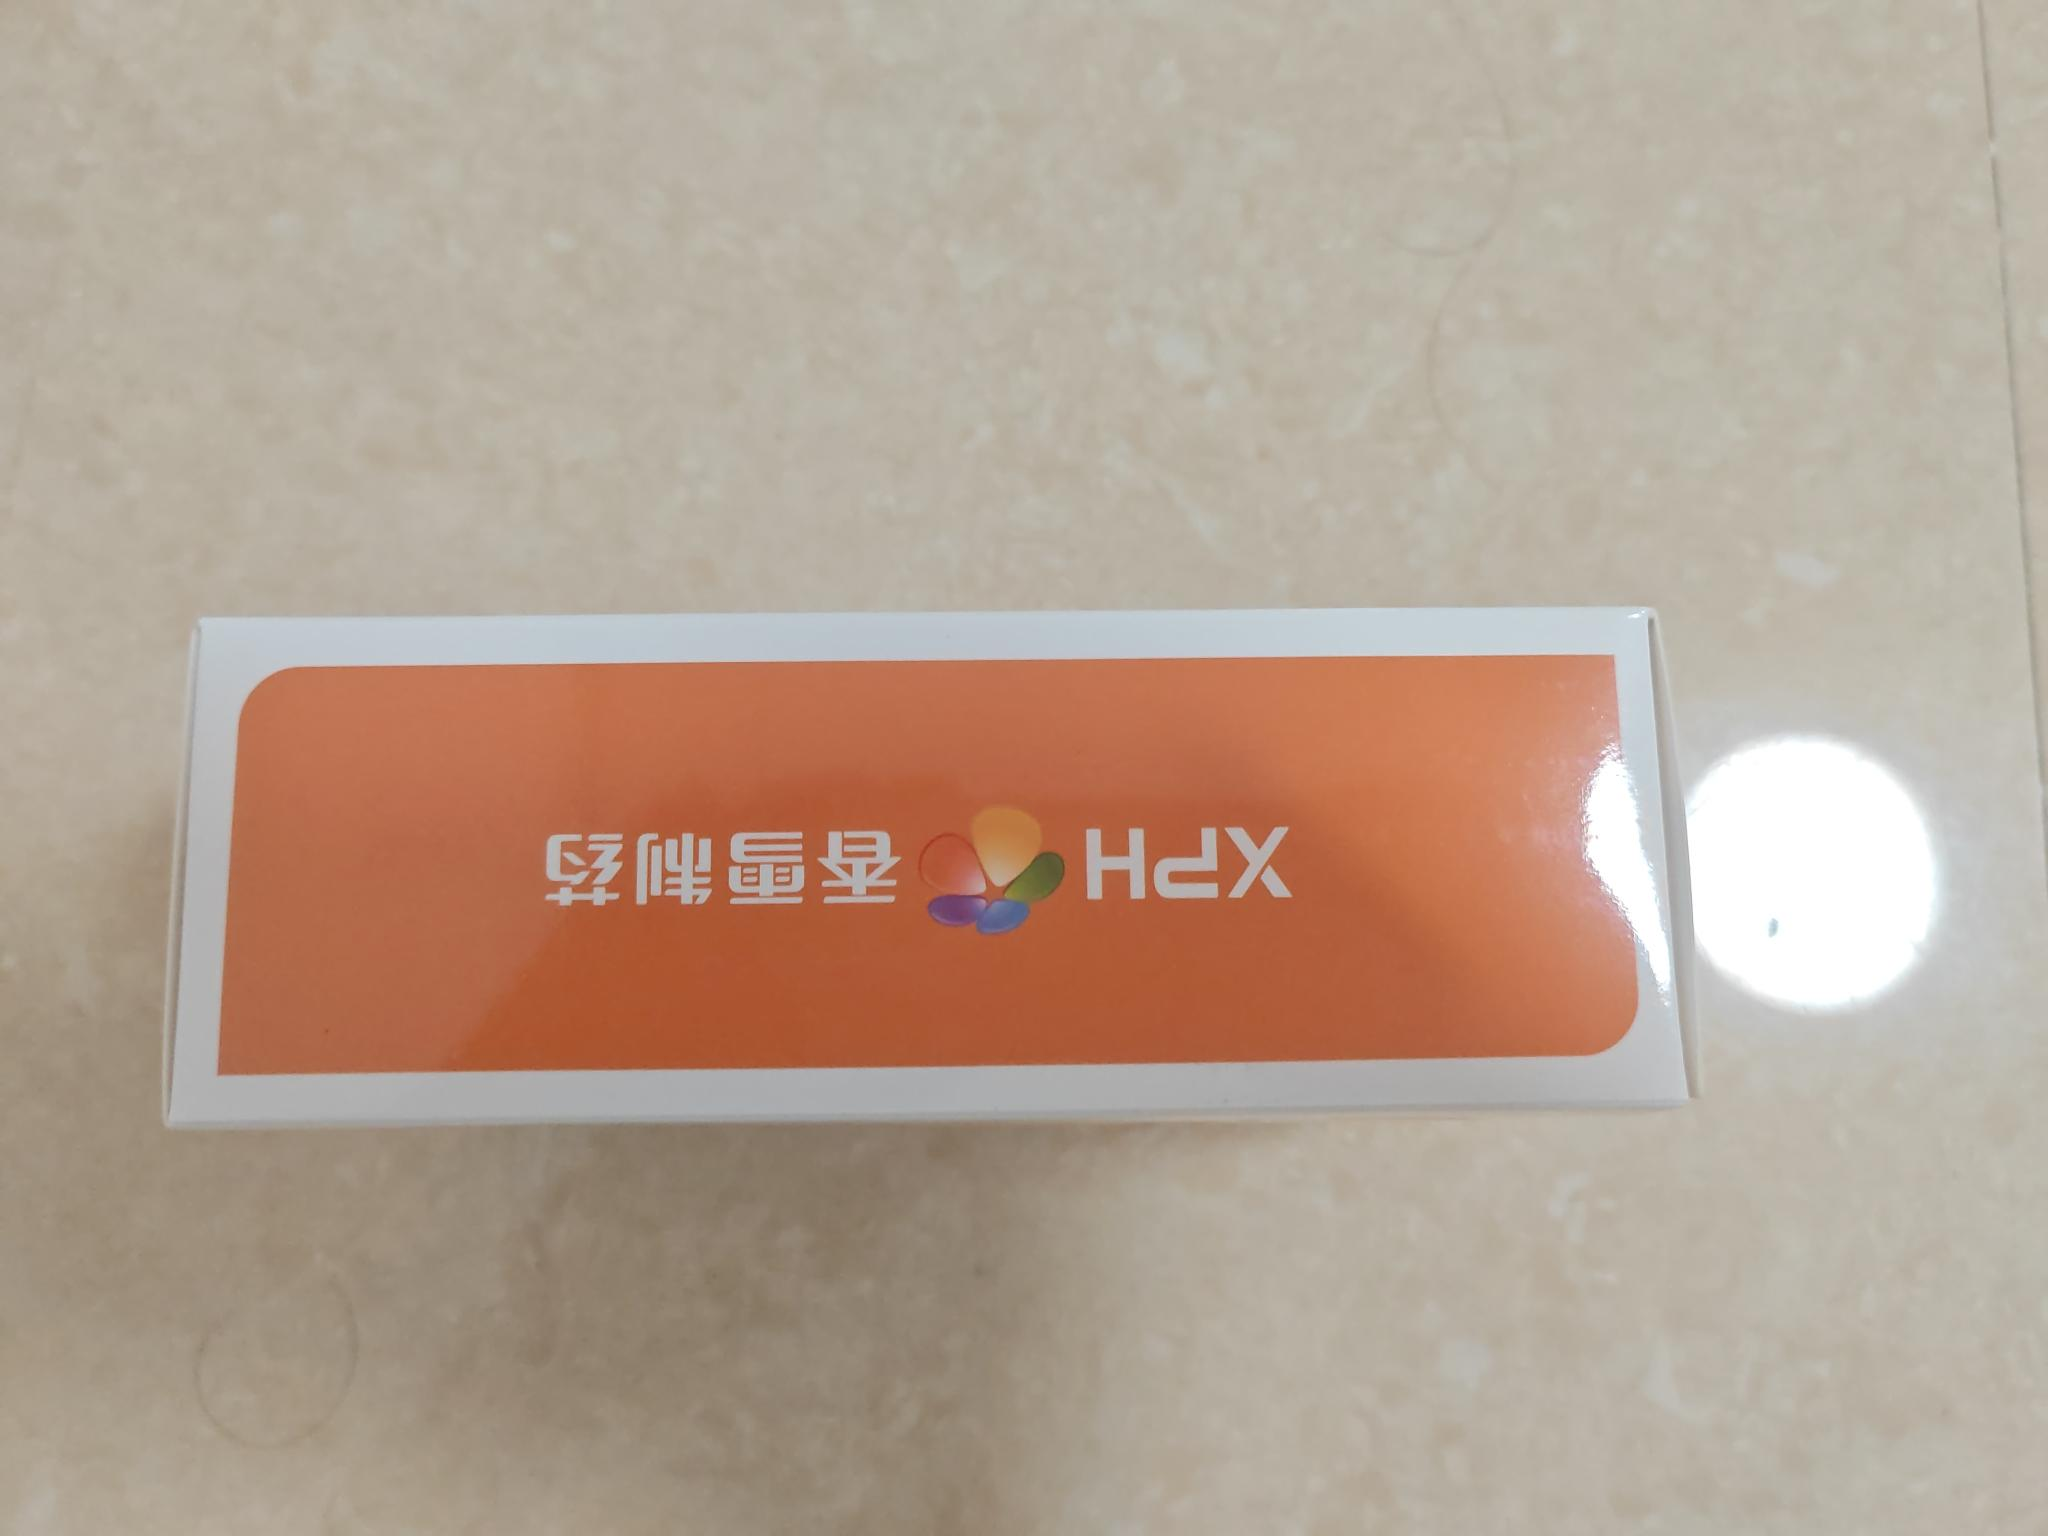Medicine1: (132, 595, 1737, 1160)
